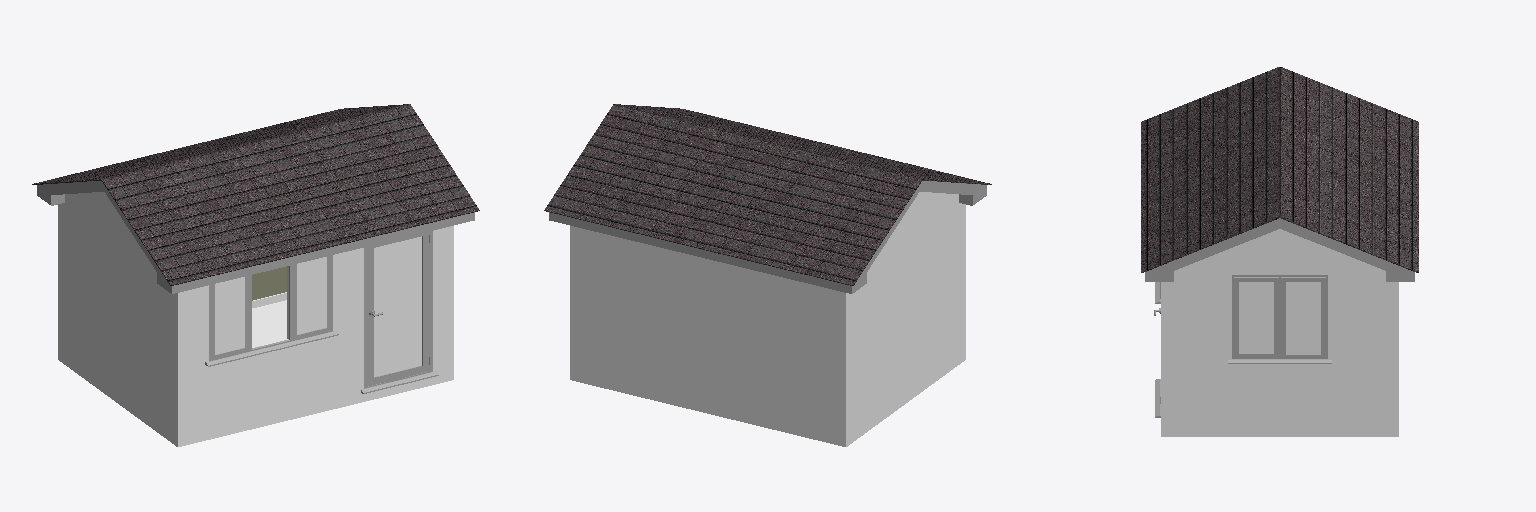
The picture shows the model from 3 angles: view 1: azimuth 30°, elevation 25°; view 2: azimuth 150°, elevation 25°; view 3: azimuth 270°, elevation 25°; orthographic projection.
Parts seen in each view (by area): view 1: cladding_001, roof_001, Merged_Meshes, 900mm_2_colour_door_002, glazed_window_leaf_004, glazed_window_leaf_003, floor_001, walls_001; view 2: cladding_001, roof_001, Merged_Meshes; view 3: roof_001, cladding_001, Merged_Meshes, glazed_window_leaf_002, glazed_window_leaf_001.
Boxes of the visible parts, box(x1,y1,x2,y2) form: cladding_001: box(58, 192, 453, 446); roof_001: box(32, 104, 479, 285); Merged_Meshes: box(37, 181, 474, 393); 900mm_2_colour_door_002: box(374, 236, 421, 376); glazed_window_leaf_004: box(297, 257, 326, 334); glazed_window_leaf_003: box(215, 277, 244, 354); floor_001: box(252, 300, 286, 342); walls_001: box(252, 266, 286, 300); cladding_001: box(570, 192, 965, 446); roof_001: box(544, 104, 991, 285); Merged_Meshes: box(549, 181, 986, 293); roof_001: box(1141, 67, 1418, 272); cladding_001: box(1161, 229, 1398, 436); Merged_Meshes: box(1145, 218, 1414, 417); glazed_window_leaf_002: box(1239, 282, 1273, 353); glazed_window_leaf_001: box(1286, 282, 1320, 353).
Bounding box in the file's own units: 4.48 × 3.16 × 3.49.
Materials: 11 (1 with a texture image).